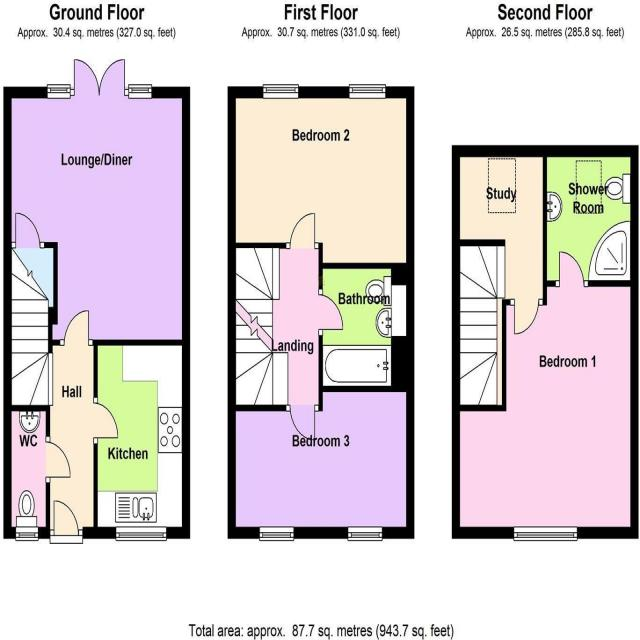DOOR: (555, 246, 587, 292), (511, 295, 541, 338), (52, 496, 81, 540), (316, 291, 346, 333), (44, 439, 74, 481), (62, 308, 92, 349), (288, 210, 317, 251), (92, 400, 121, 441), (288, 402, 317, 442), (14, 209, 42, 250)
DOUBLE DOOR: (71, 55, 129, 97)
ROOM: (1, 57, 192, 347), (451, 279, 639, 539), (225, 84, 416, 288), (227, 385, 415, 540), (92, 337, 192, 541)
WINDOW: (512, 523, 579, 544), (115, 525, 168, 543), (348, 82, 387, 101), (257, 524, 295, 543), (262, 82, 300, 100), (346, 525, 384, 543), (127, 82, 153, 101), (46, 82, 71, 101), (14, 525, 39, 542)
